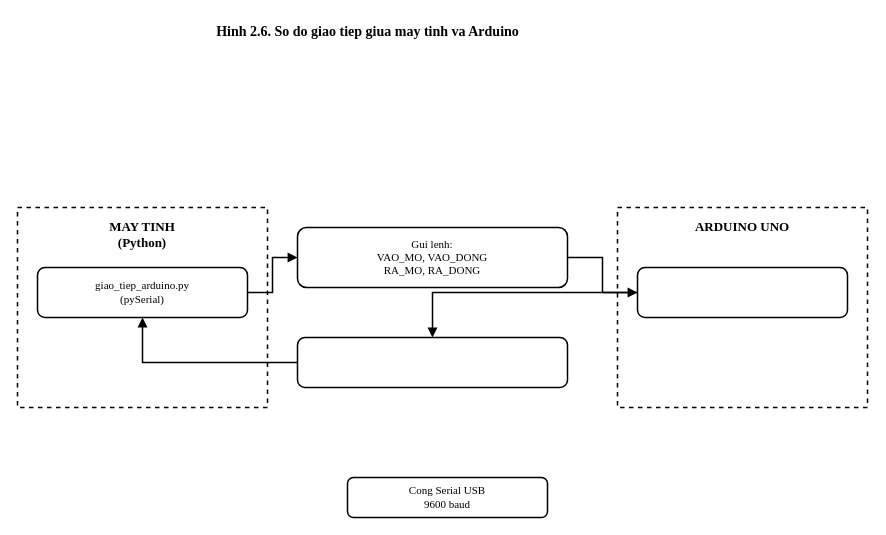
Some shapes in this 886 by 535 pixel diagram are drawn without their labels. Each missing label, with the centre of its shape:
"Chuong trinh Arduino (sketch.ino)" belongs at point 742,292.
"Nhan du lieu: CAM_BIEN:xe_vao=1,xe_ra=0" belongs at point 432,362.
